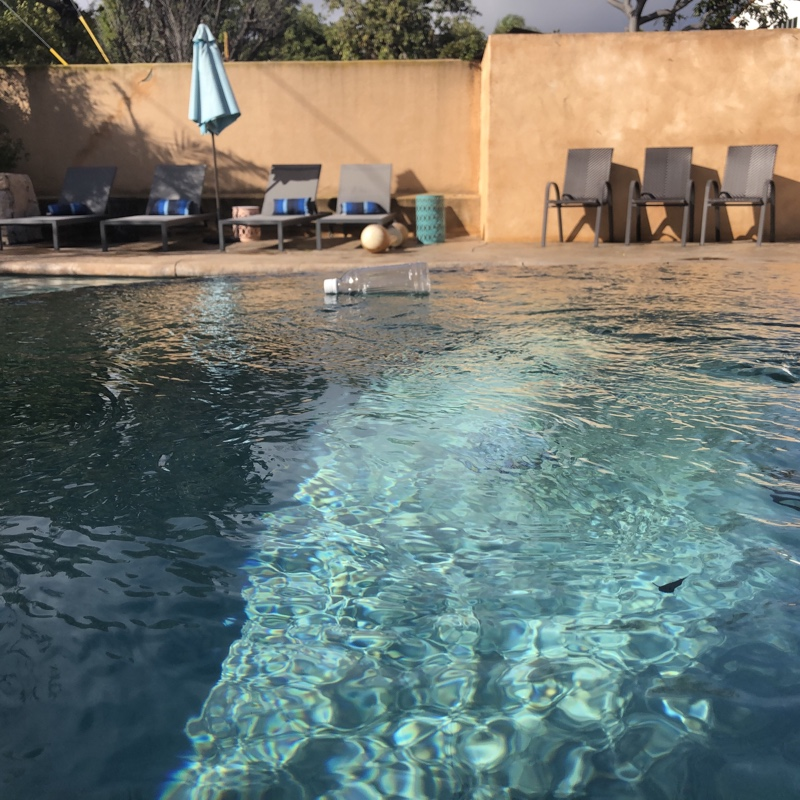Plastic Bottle: (321, 259, 437, 300)
